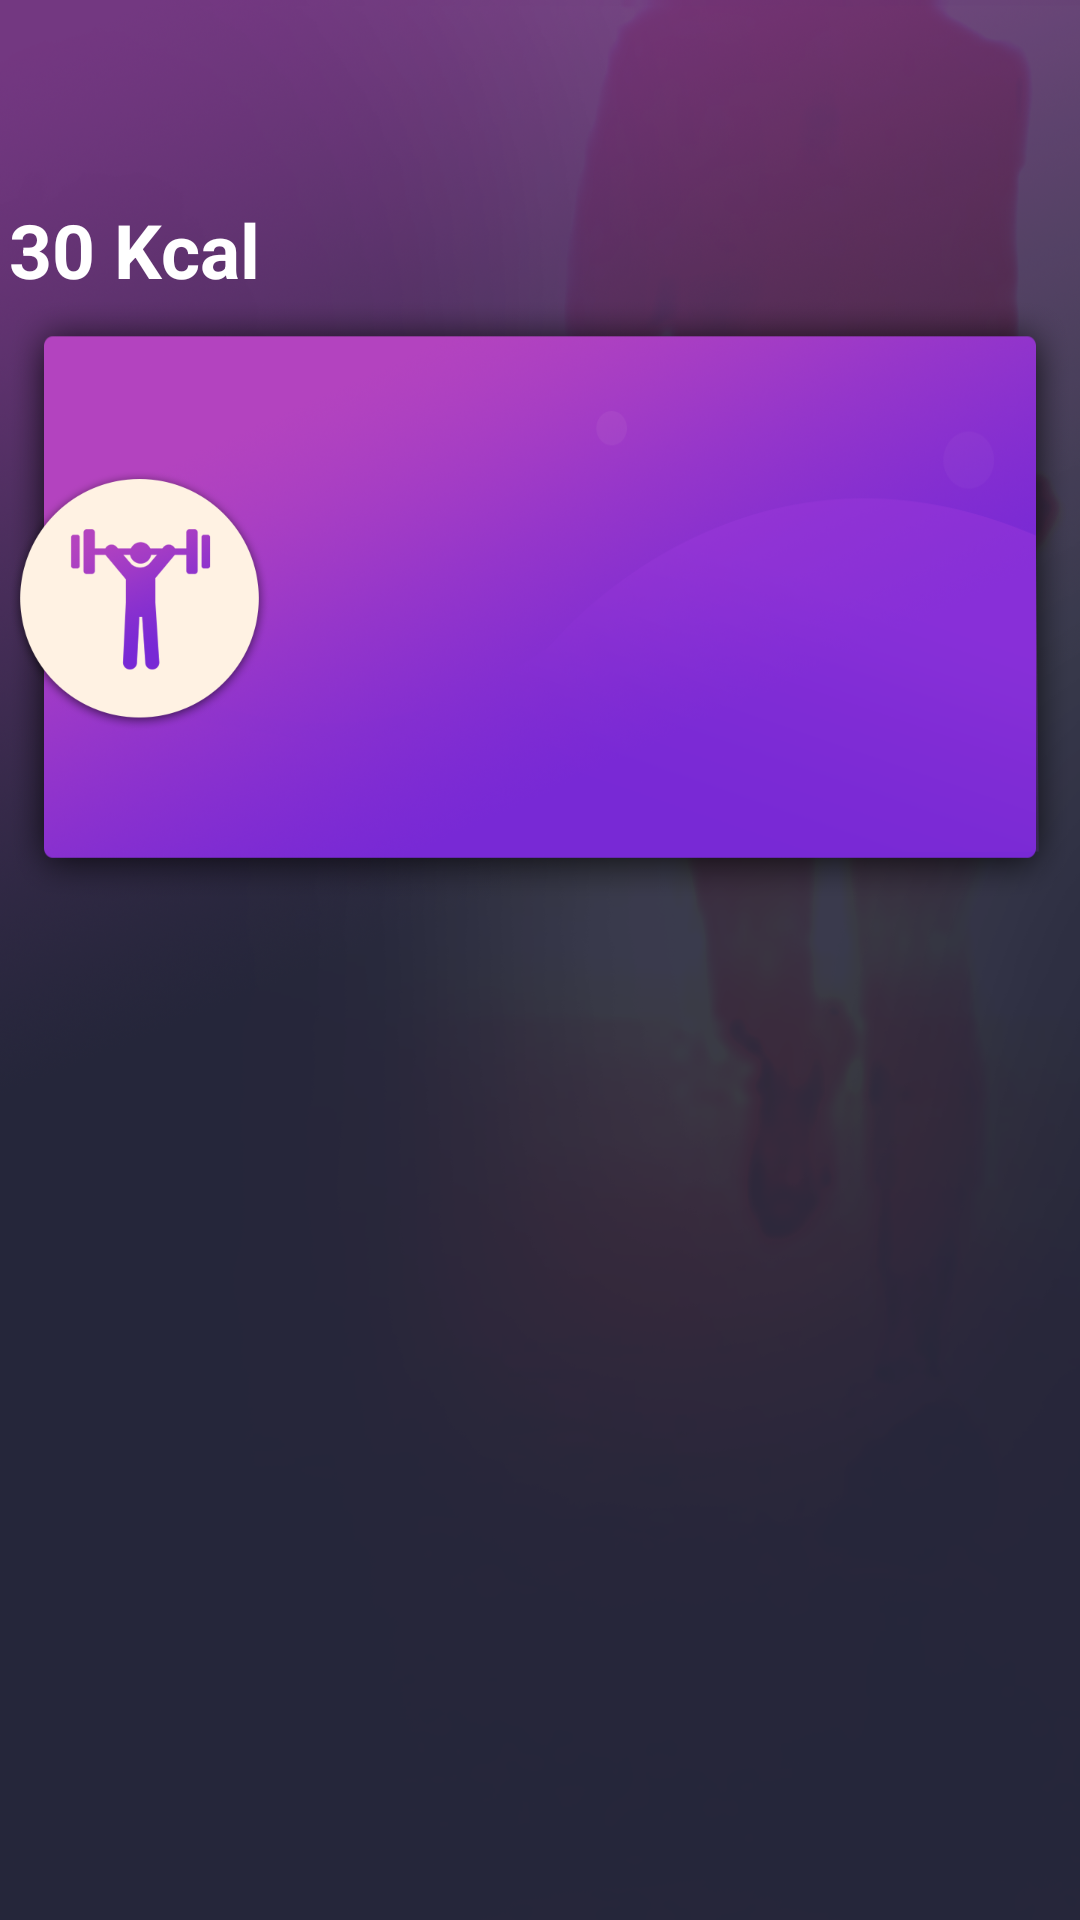

Icons on this 1080 × 1920 Android screen, each with the point to tap as (x=x, y=y):
workout: (x=139, y=600)
